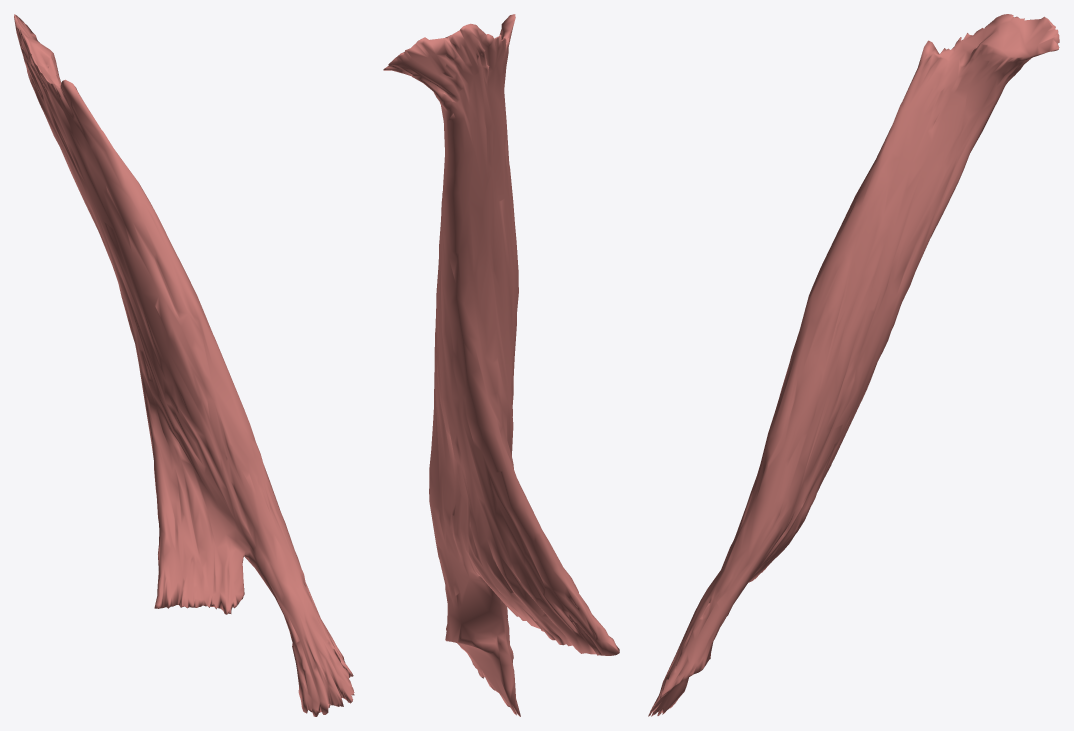
3 views of the same model, side by side, from view 1: azimuth 30°, elevation 25°; view 2: azimuth 150°, elevation 25°; view 3: azimuth 270°, elevation 25° (orthographic). The views are drawn at different scales.
Visible parts, largest first — view 1: ZA_93a28e6cad4a9359; view 2: ZA_93a28e6cad4a9359; view 3: ZA_93a28e6cad4a9359.
Boxes of the visible parts, <box> form: ZA_93a28e6cad4a9359: <box>14,14,354,716</box>; ZA_93a28e6cad4a9359: <box>383,14,619,716</box>; ZA_93a28e6cad4a9359: <box>648,14,1059,716</box>.
Size of the model in its own units: 0.0577 by 0.1937 by 0.1137.
